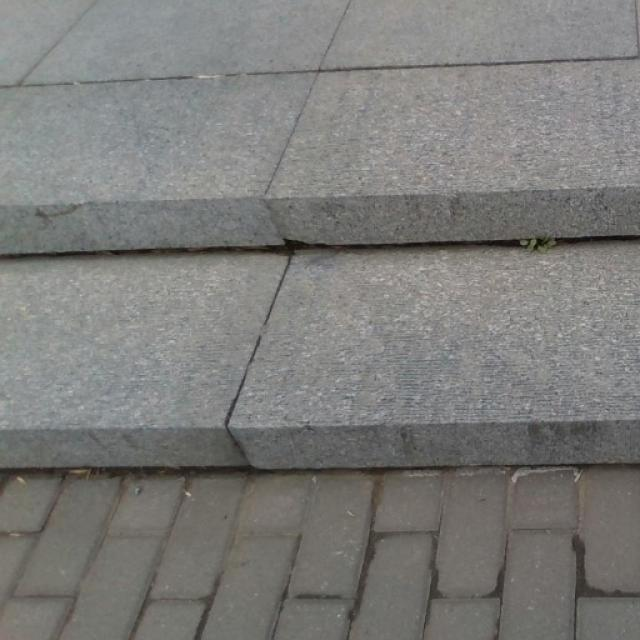Stairs: (0, 185, 639, 470)
